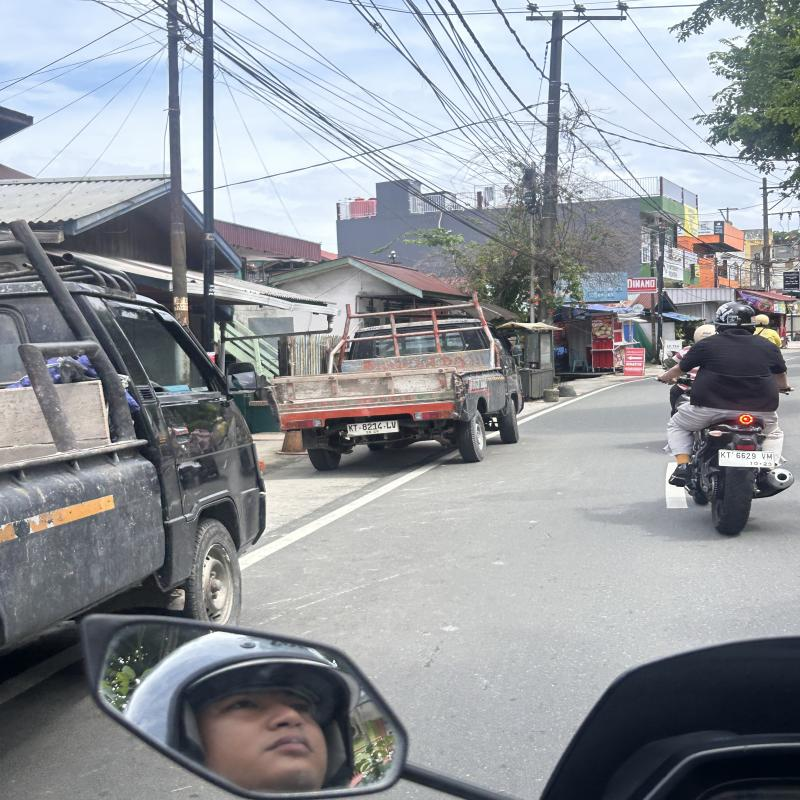license plate on a car: (347, 420, 399, 439)
